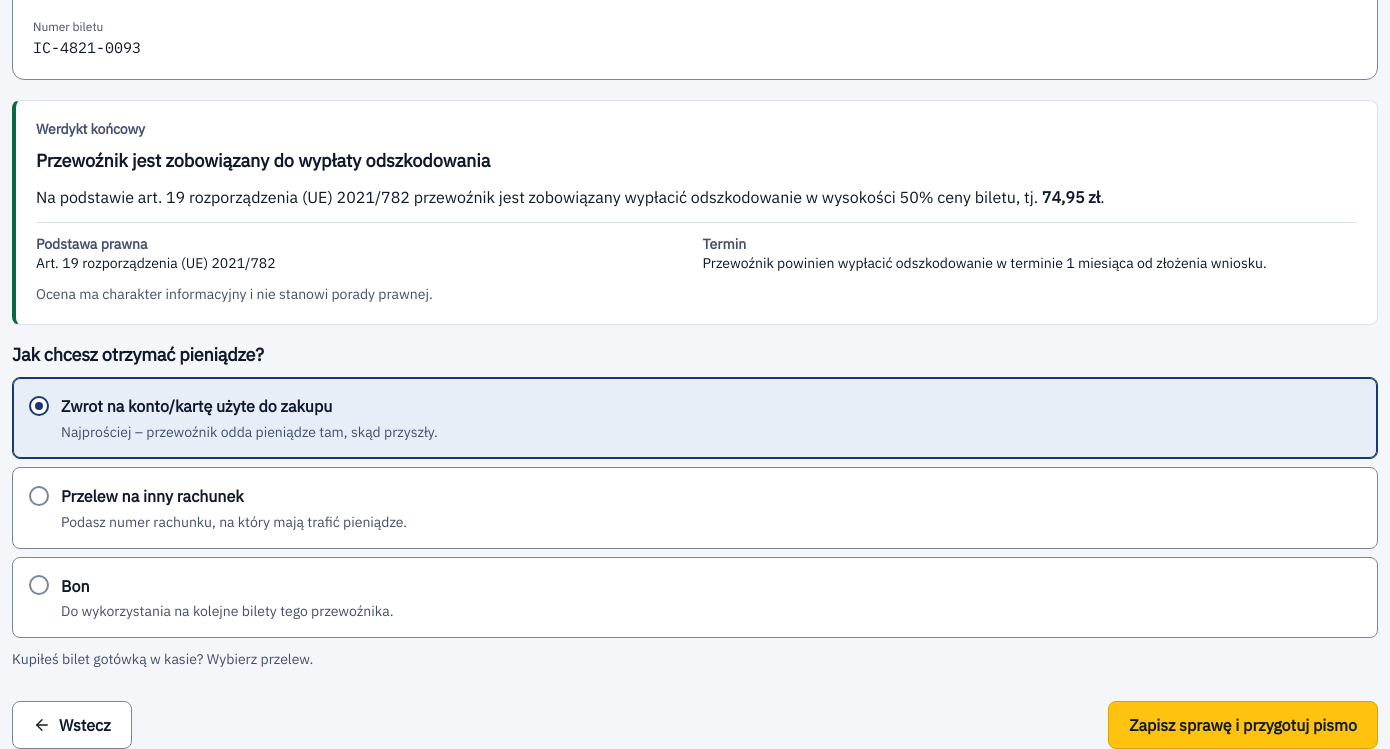
ResultStep – save with inline sign-in › shows sign-in errors in Polish and keeps the panel
(page scrolled)
Click the button "Zapisz sprawę i przygotuj pismo" at (1243, 725), box [1108, 701, 1378, 748]
(page scrolled)
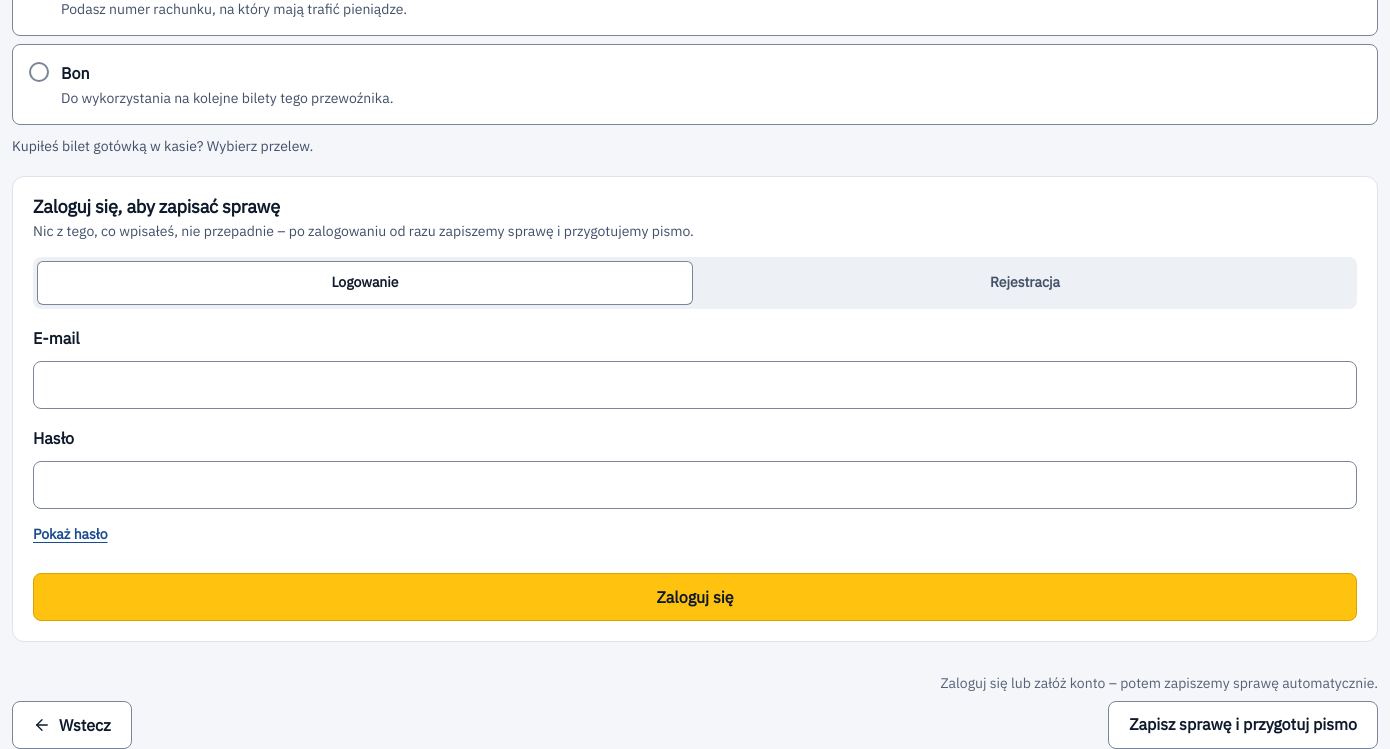
Type "jan@example.com" into the field labelled "E-mail" at (695, 385), box [33, 361, 1357, 409]
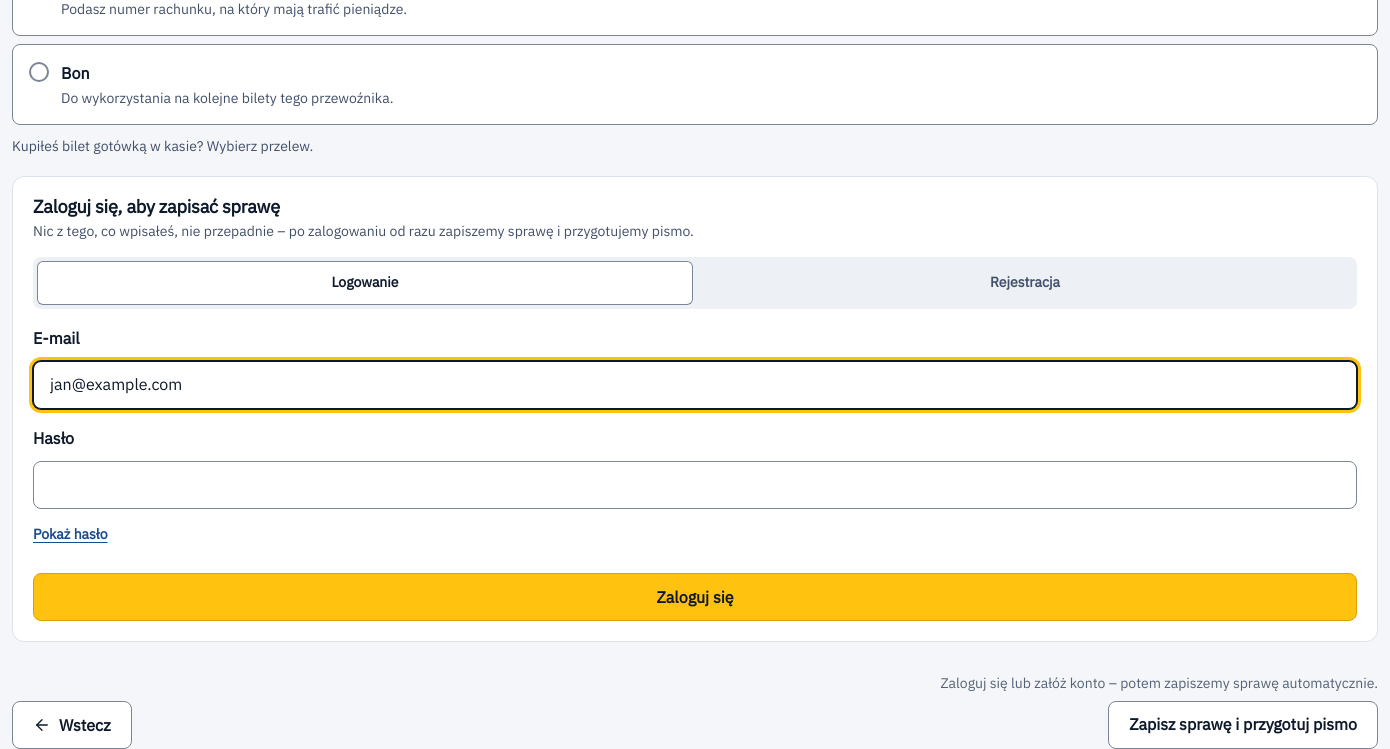
Type "zle" into the password field labelled "Hasło" at (695, 485), box [33, 461, 1357, 509]
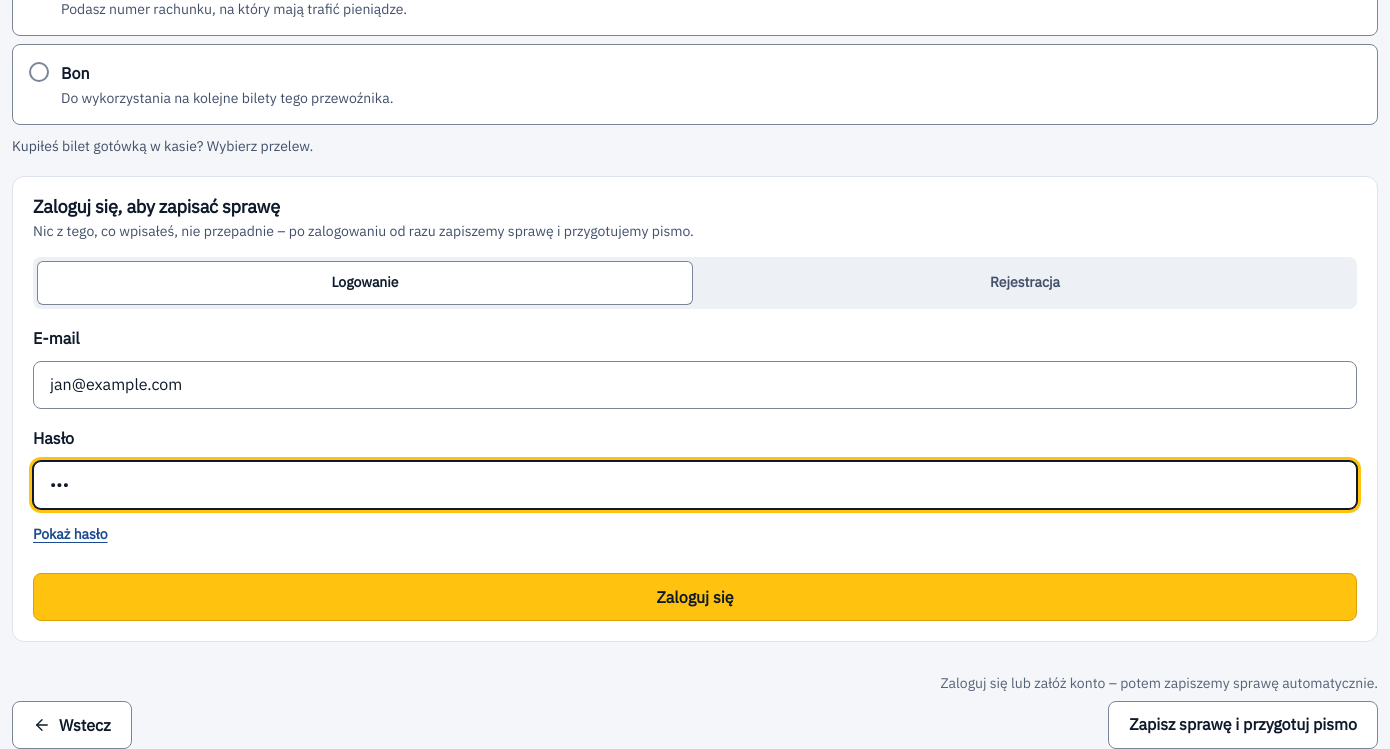
Click the button "Zaloguj się" at (695, 597), box [33, 573, 1357, 621]
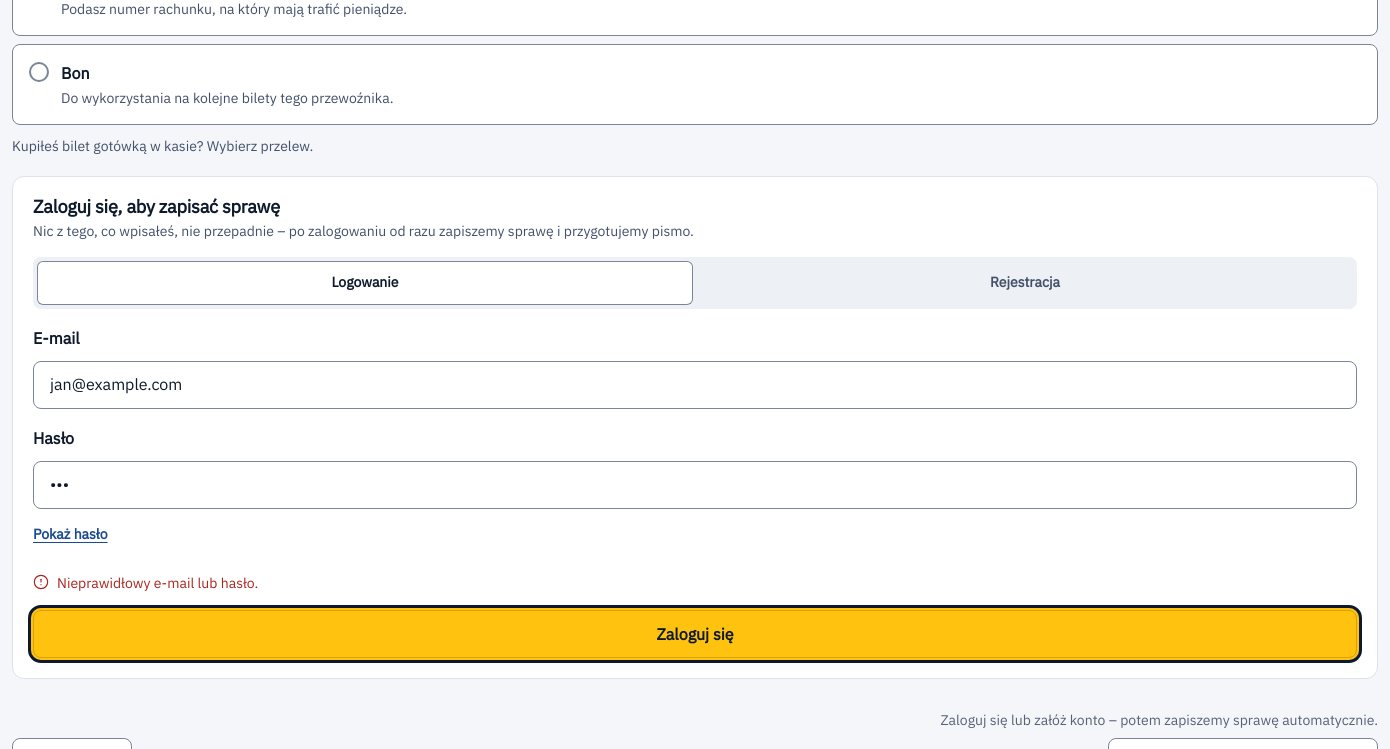
Result: the message shows "Nieprawidłowy e-mail lub hasło" at [57, 574, 258, 592]
